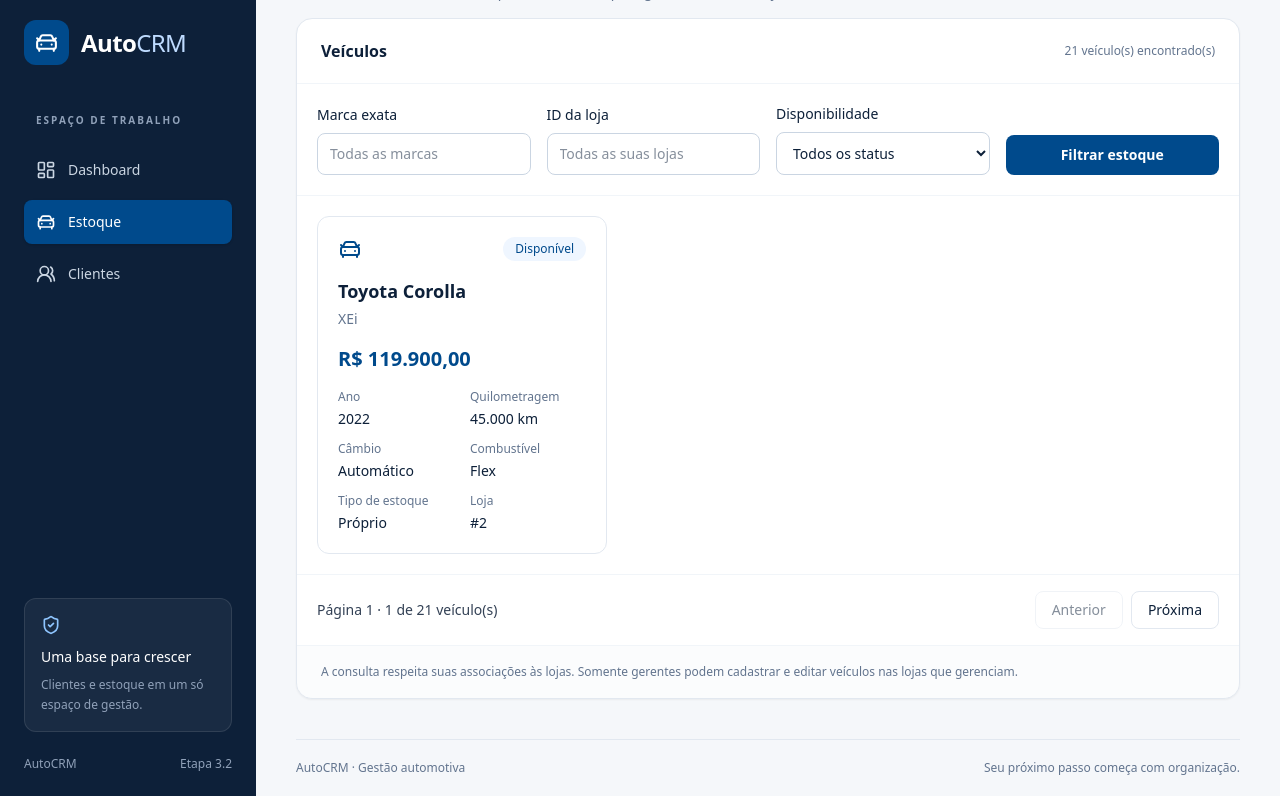
estoque real paginado › mostra carregamento, campos do serializer e paginação DRF sem seguir URLs de outro host
Later steps or results of the test are not shown.
(page scrolled)
Expected: the heading "Toyota Corolla" is shown, 338,279 -> 466,303
Expected: the text "R$ 119.900,00" is shown, 338,345 -> 471,372
Click the button "Próxima".
click(1175, 610)  # box 1131,591 -> 1219,629
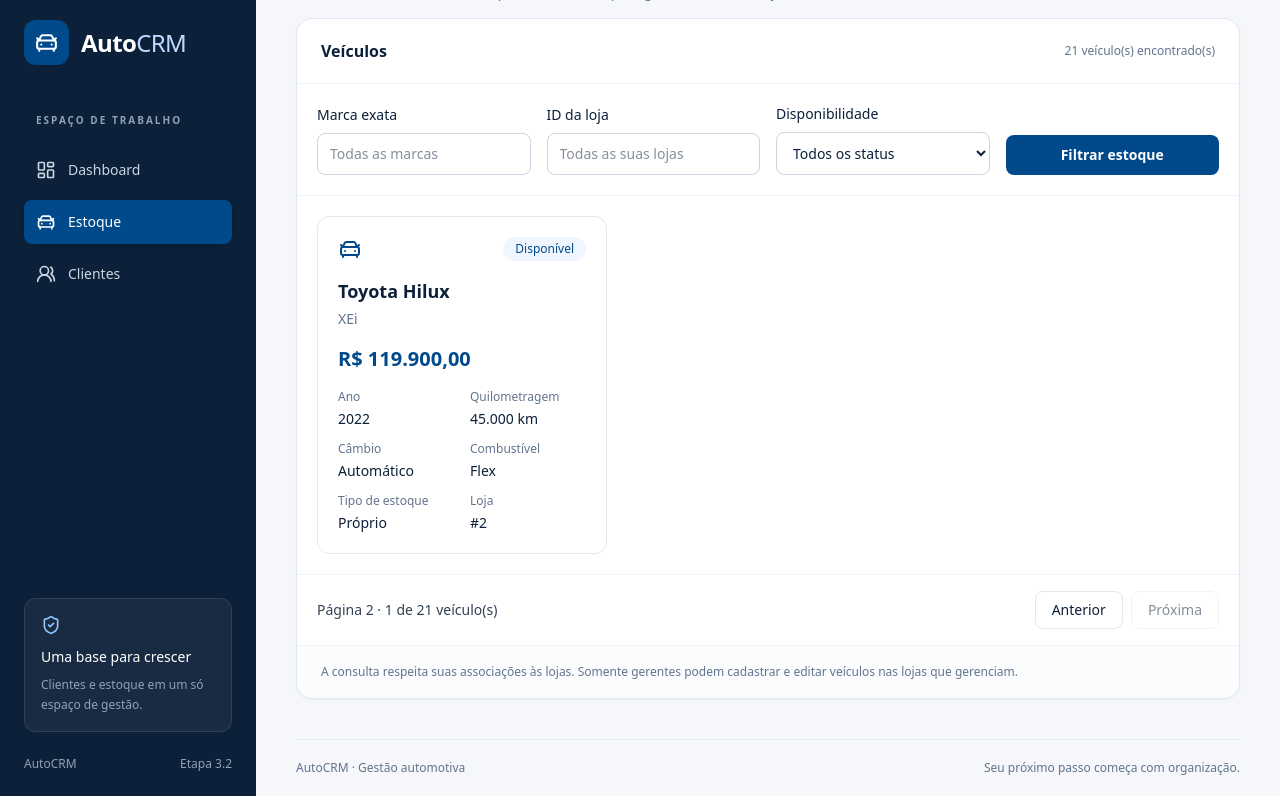
Now the heading "Toyota Hilux" is shown, box 338,279 -> 450,303
Now the button "Próxima" is disabled, box 1131,591 -> 1219,629
Now the button "Anterior" is enabled, box 1035,591 -> 1123,629
